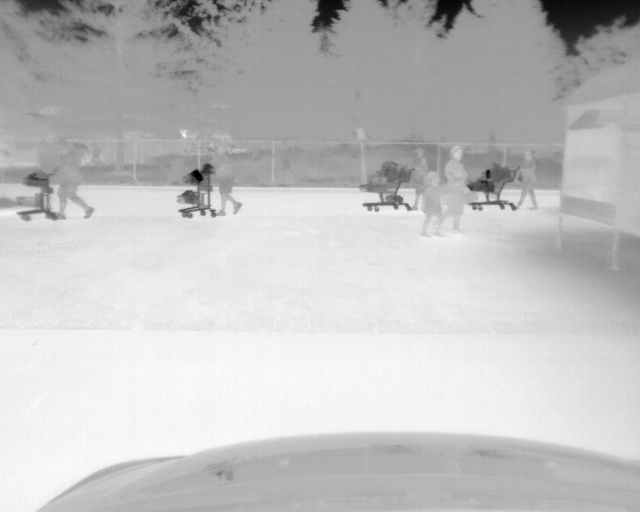people: (45, 140, 94, 220), (443, 145, 472, 237), (208, 141, 242, 217), (512, 147, 541, 211), (418, 173, 446, 237), (407, 145, 428, 209)
